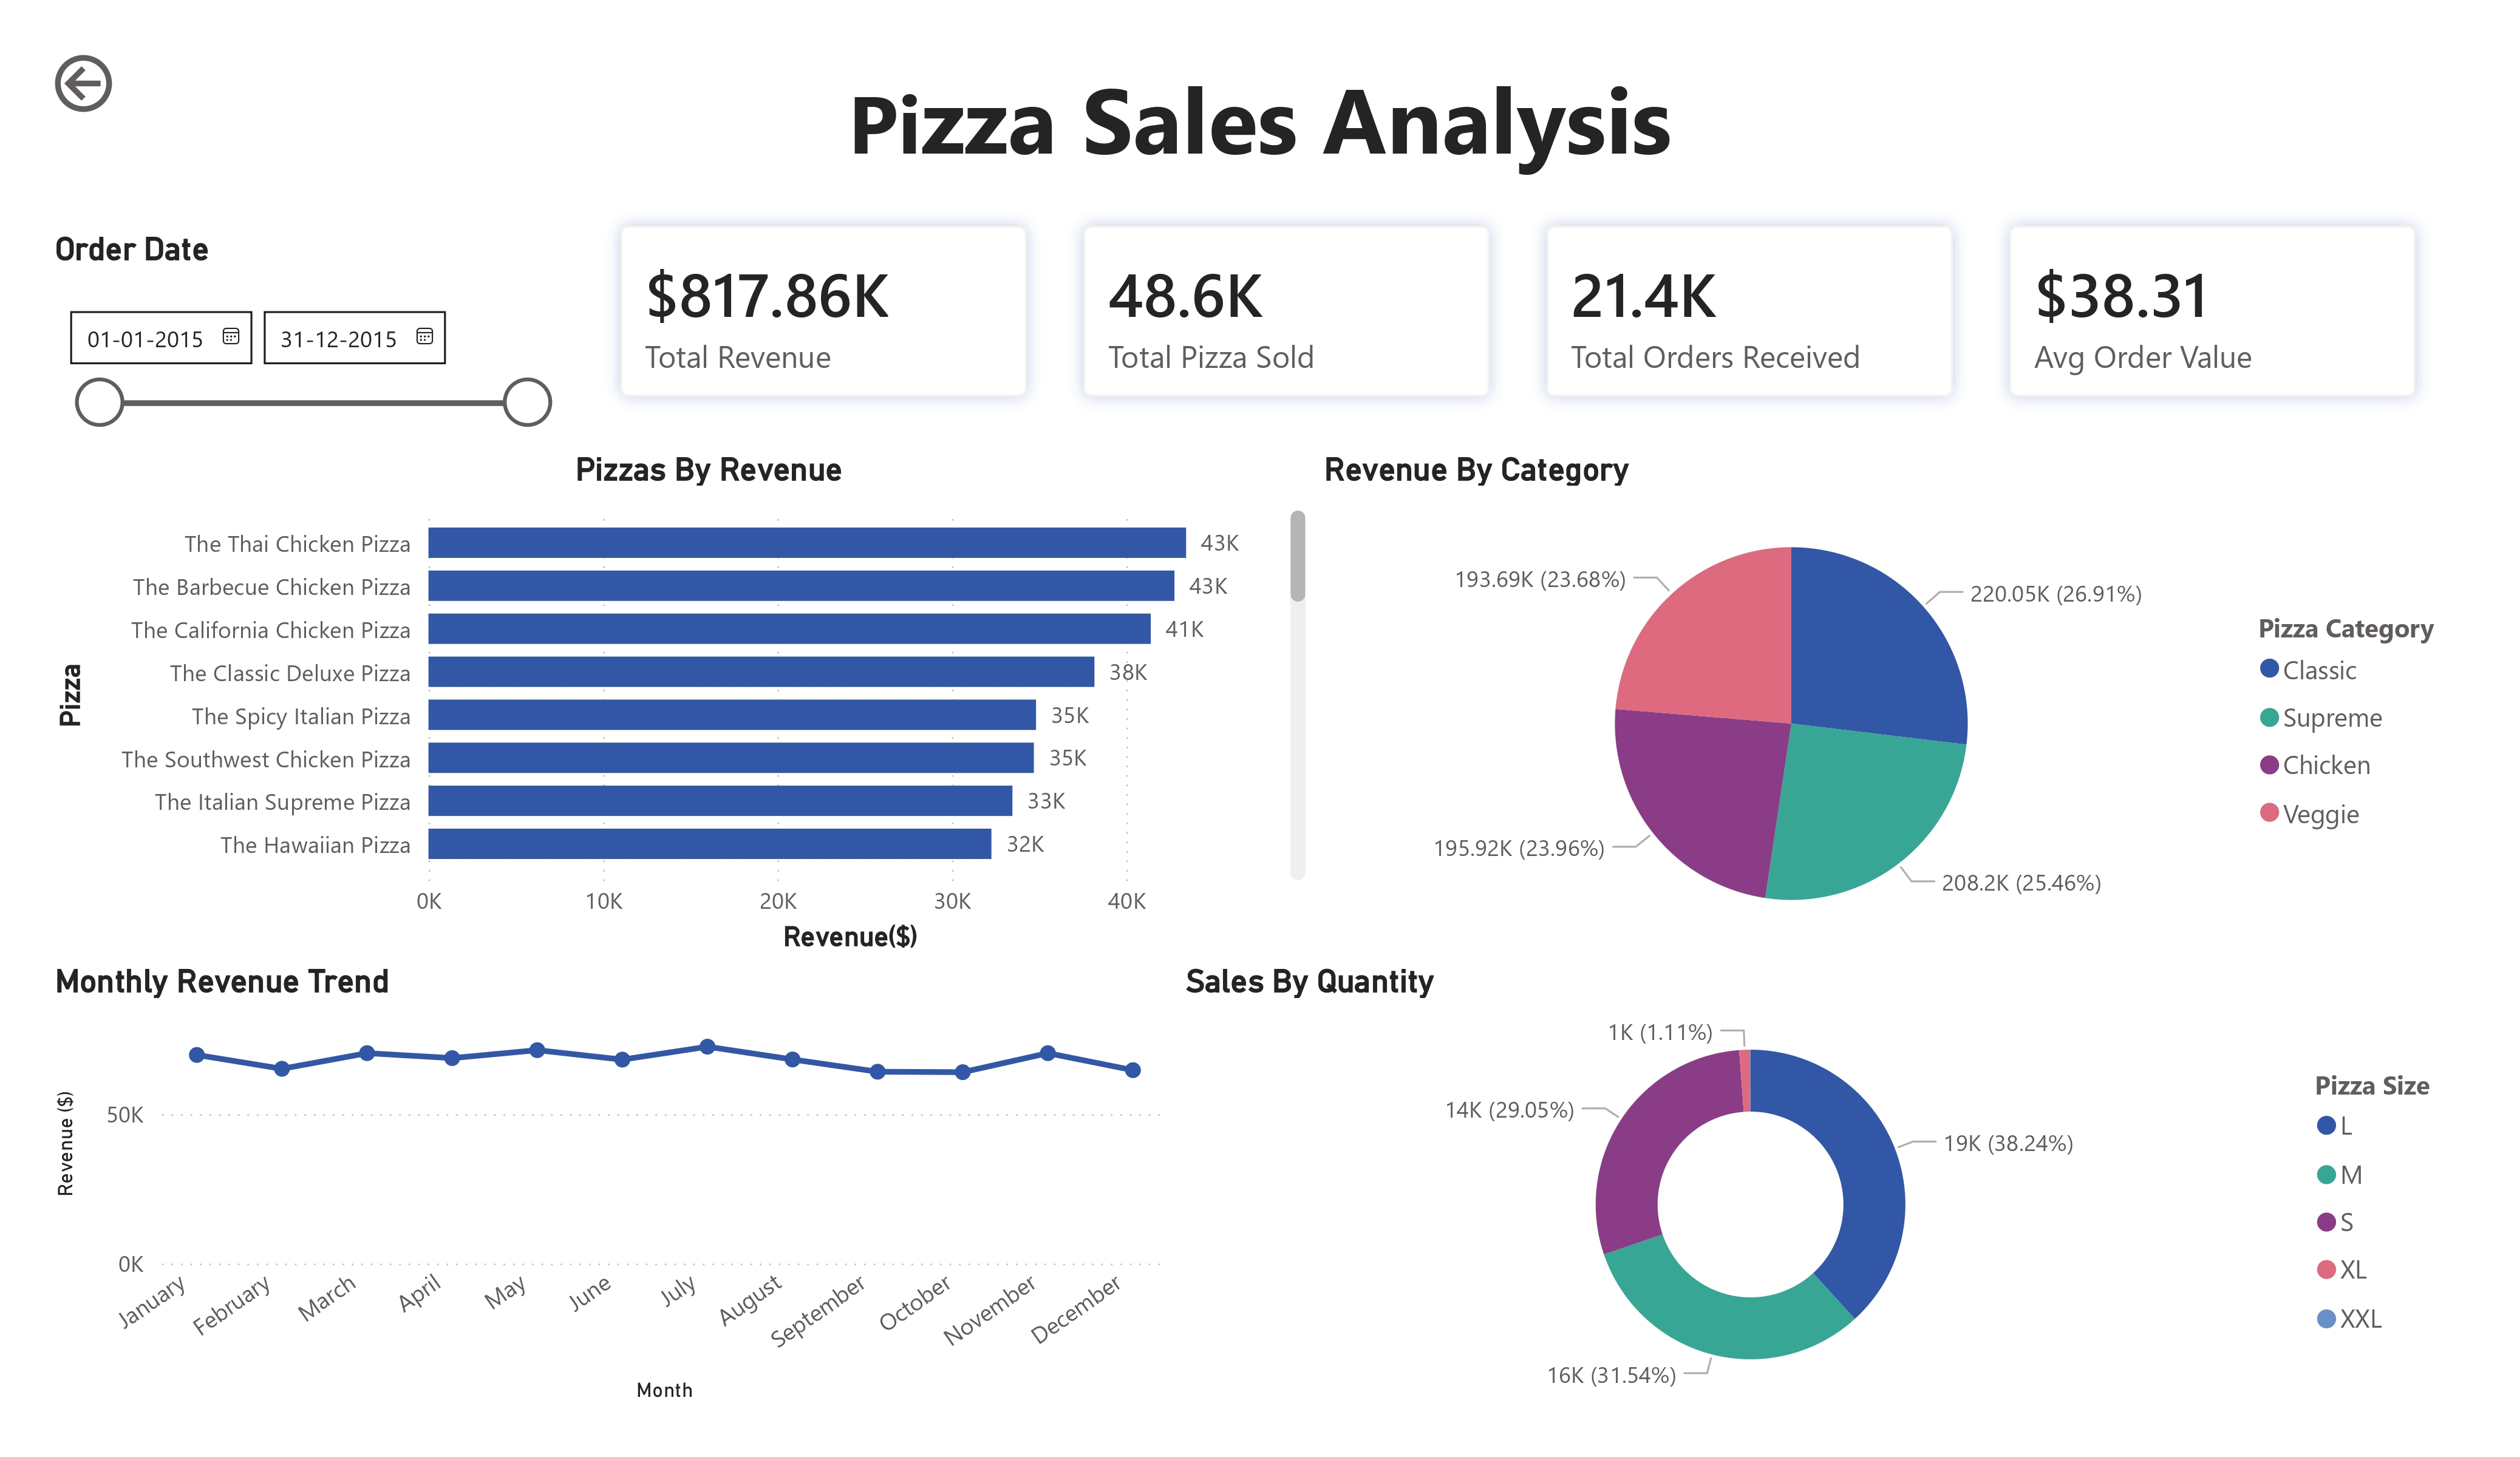

Layout of this report page (visuals, bound fields, positions):
{"tool":"powerbi","page":{"name":"Page 1","canvas":[1280,720],"ordinal":0},"visuals":[{"type":"textbox","box":[0,0,1280.3,97.4],"z":0},{"type":"clusteredBarChart","title":"Top Pizzas By Revenue","fields":{"Category":["pizza_sales.pizza_name"],"Y":["Sum(pizza_sales.total_price)"]},"box":[0,212.7,669.3,269.9],"z":1000},{"type":"pieChart","title":"Revenue By Category","fields":{"Category":["pizza_sales.pizza_category"],"Y":["Sum(pizza_sales.total_price)"]},"box":[669.3,212.7,610.8,269.9],"z":2000},{"type":"donutChart","title":"Sales By Quantity","fields":{"Category":["pizza_sales.pizza_size"],"Y":["Sum(pizza_sales.quantity)"]},"box":[595.9,482.7,684.2,237.6],"z":3000},{"type":"cardVisual","fields":{"Data":["Sum(pizza_sales.total_price)","Count(pizza_sales.pizza_id)","Count(pizza_sales.order_id)","pizza_sales.Avg Order Value"]},"box":[274.9,67.2,1005.1,145.5],"z":4000},{"type":"lineChart","title":"Monthly Revenue Trend","fields":{"Y":["Sum(pizza_sales.total_price)"],"Category":["pizza_sales.order_date.Variation.Date Hierarchy.Month"]},"box":[0,482.7,595.9,237.6],"z":5000},{"type":"slicer","title":"Order Date","fields":{"Values":["pizza_sales.order_date"]},"box":[0,97,274.9,141.8],"z":6000},{"type":"actionButton","box":[0,0,100,40],"z":7000}]}

Visuals, with their boxes on the page's 1280x720 design canvas (x1, y1, x2, y2). These are canvas units, not pixel positions in the 2520x1457 screenshot, which may show the page scaled, cropped or inside an application window:
textbox: [x1=0, y1=0, x2=1280, y2=97]
"Top Pizzas By Revenue" clusteredBarChart: [x1=0, y1=213, x2=669, y2=483]
"Revenue By Category" pieChart: [x1=669, y1=213, x2=1280, y2=483]
"Sales By Quantity" donutChart: [x1=596, y1=483, x2=1280, y2=720]
cardVisual - Sum(pizza_sales.total_price) x Count(pizza_sales.pizza_id): [x1=275, y1=67, x2=1280, y2=213]
"Monthly Revenue Trend" lineChart: [x1=0, y1=483, x2=596, y2=720]
"Order Date" slicer: [x1=0, y1=97, x2=275, y2=239]
actionButton: [x1=0, y1=0, x2=100, y2=40]
